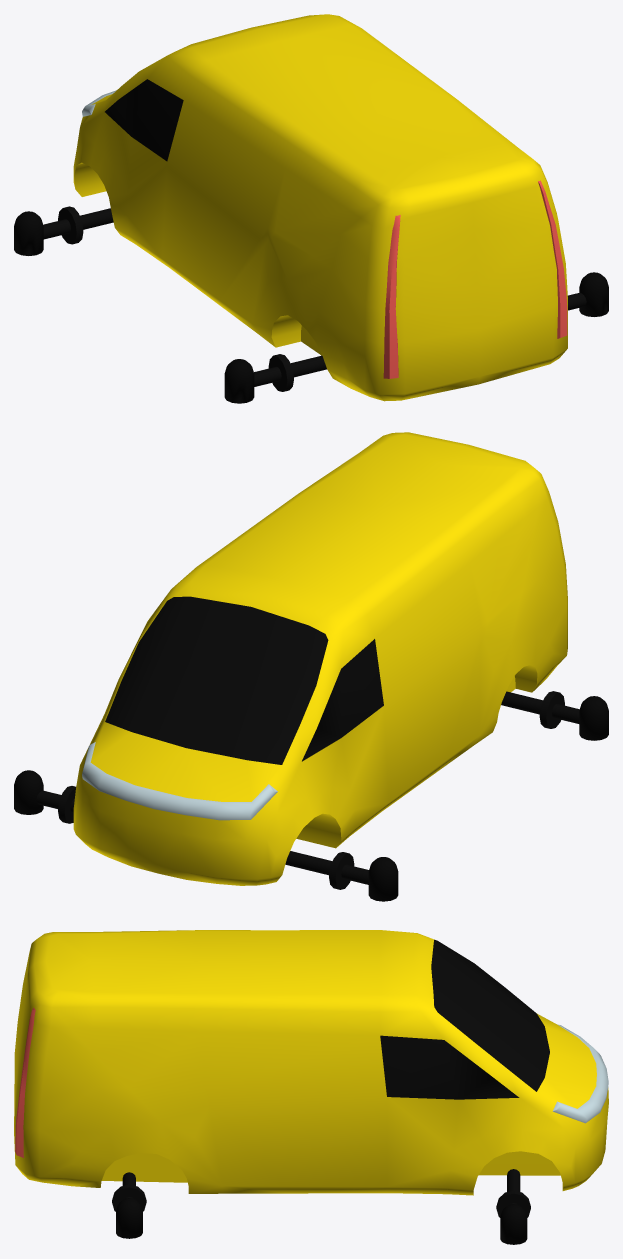
The model's file is Car4.fbx.
3 renders of one model, top to bottom at view 1: azimuth 30°, elevation 25°; view 2: azimuth 150°, elevation 25°; view 3: azimuth 270°, elevation 25°, orthographic. The views are drawn at different scales.
Visible parts, largest first — view 1: Marketven_Lo_1, Dron, Rail; view 2: Marketven_Lo_1, Dron, Rail; view 3: Marketven_Lo_1, Dron, Rail.
Part boxes in pixels (x1,y1,x2,y2): Marketven_Lo_1: (73, 14, 567, 401); Dron: (14, 208, 608, 403); Rail: (58, 206, 325, 391); Marketven_Lo_1: (73, 432, 567, 885); Dron: (14, 692, 608, 901); Rail: (58, 691, 564, 889); Marketven_Lo_1: (14, 930, 608, 1195); Dron: (116, 1169, 527, 1244); Rail: (112, 1169, 530, 1217).
Bounding box in the file's own units: 2965 × 1652 × 4402.
Materials: 1 (1 with a texture image).
